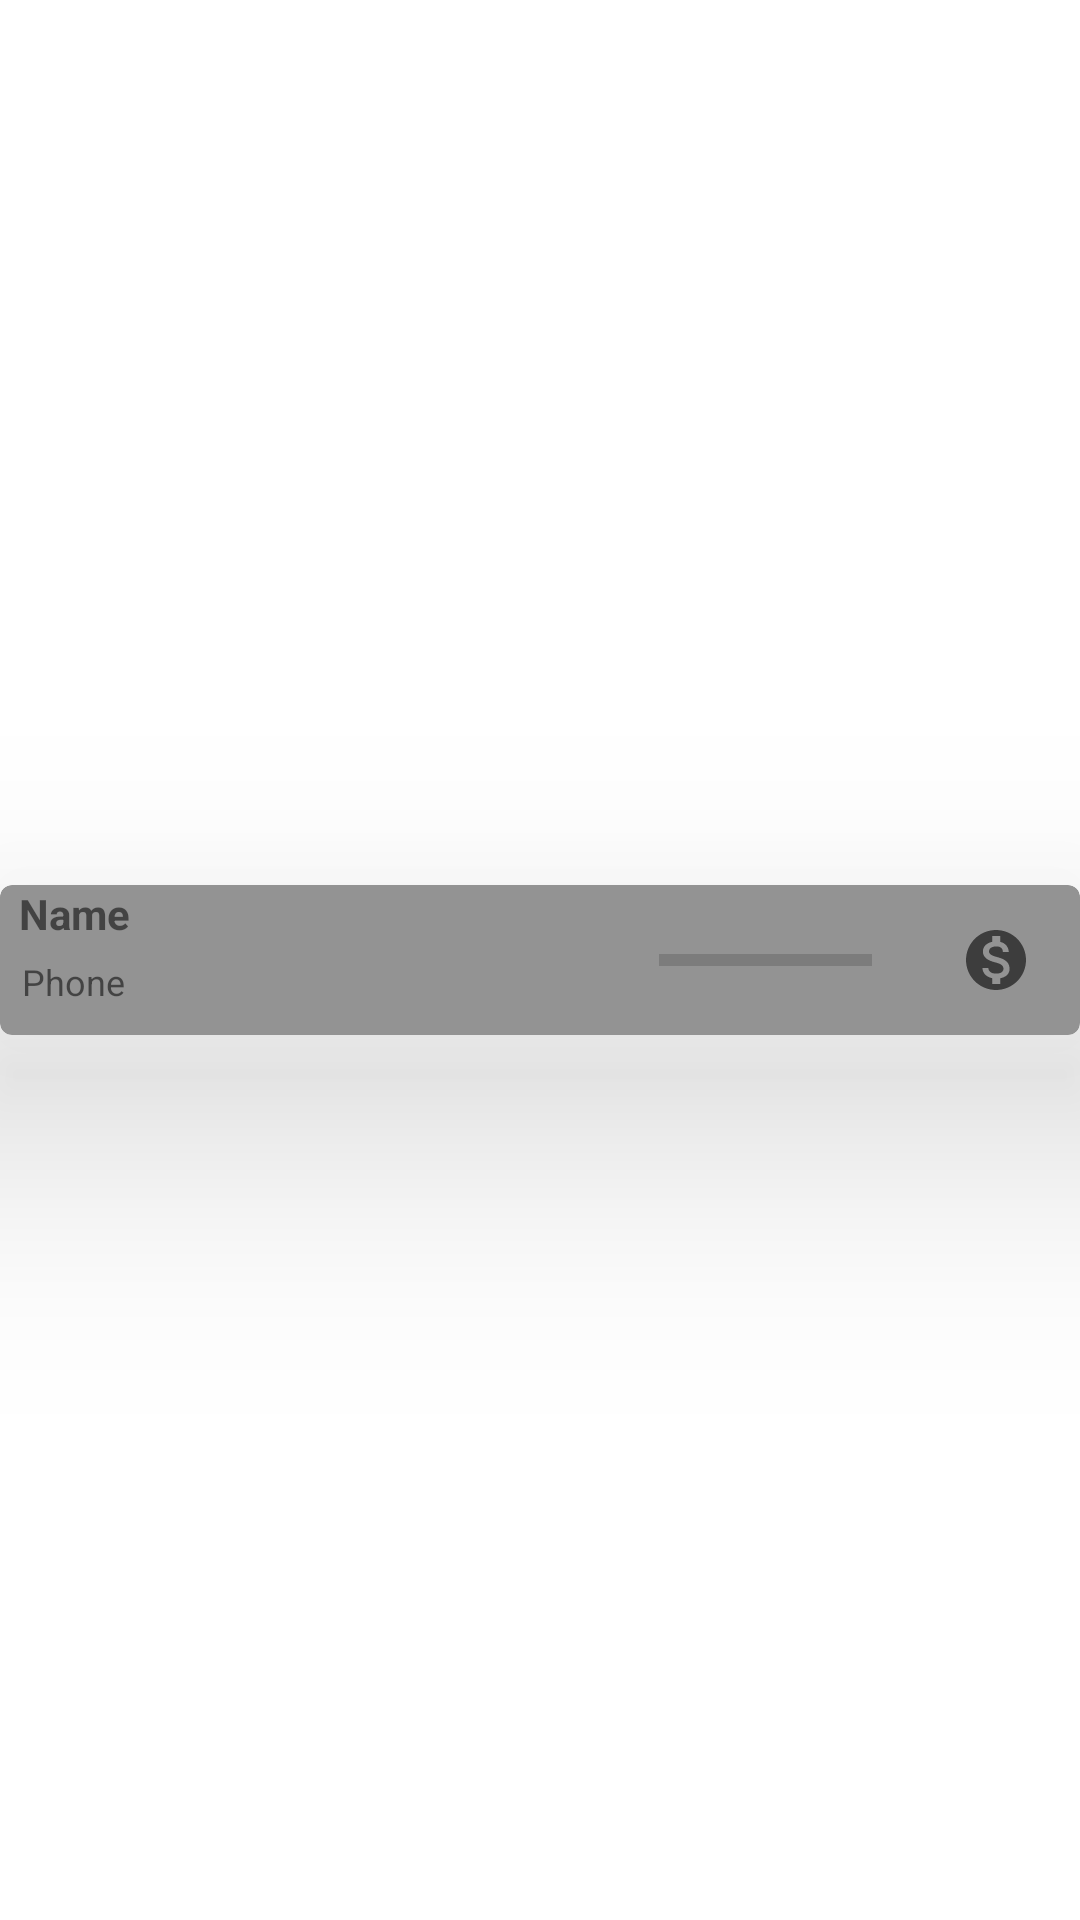

Icons on this 1080*1920 Android screen, each with its box as (x1, y1, x2, y2):
monetization on: (966, 930, 1026, 990)
